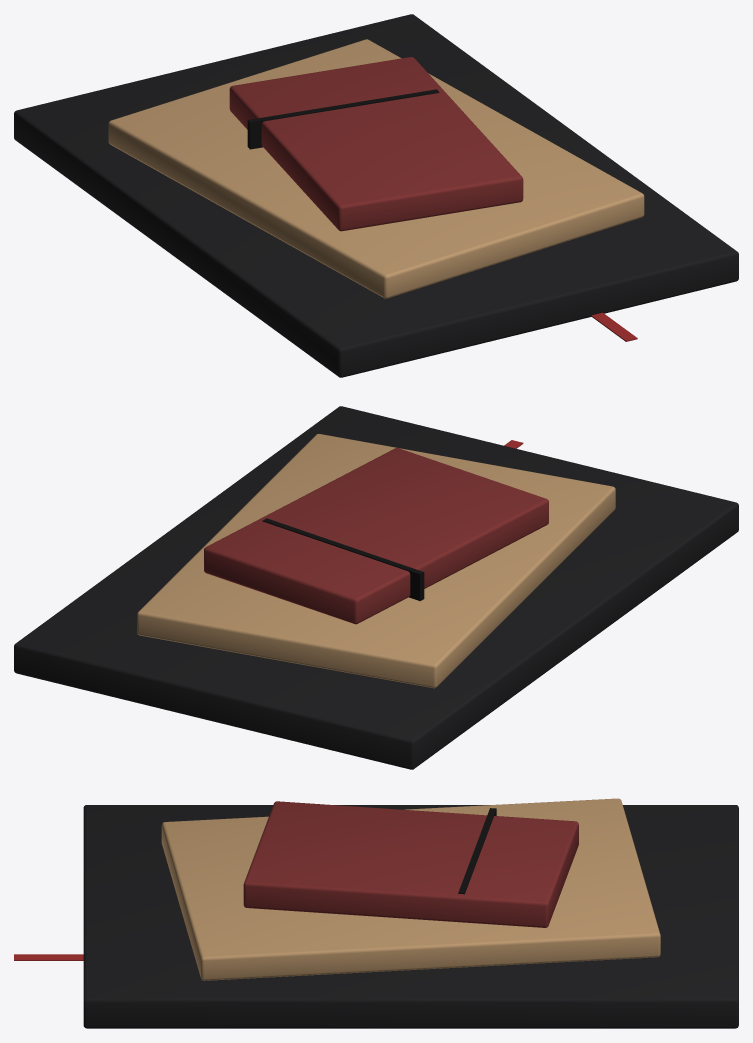
Rendered from herodesk-art-sketchbooks.glb.
3 views of the same model, one above another, from view 1: azimuth 30°, elevation 25°; view 2: azimuth 150°, elevation 25°; view 3: azimuth 270°, elevation 25° (orthographic).
Visible parts, largest first — view 1: herodesk-art-sketchbooks · mesh; view 2: herodesk-art-sketchbooks · mesh; view 3: herodesk-art-sketchbooks · mesh.
Boxes of the visible parts, left/top/right/bottom form: herodesk-art-sketchbooks · mesh: left=14, top=14, right=738, bottom=377; herodesk-art-sketchbooks · mesh: left=14, top=406, right=738, bottom=769; herodesk-art-sketchbooks · mesh: left=14, top=798, right=738, bottom=1028.
Bounding box in the file's own units: 0.21 × 0.0405 × 0.3285.
